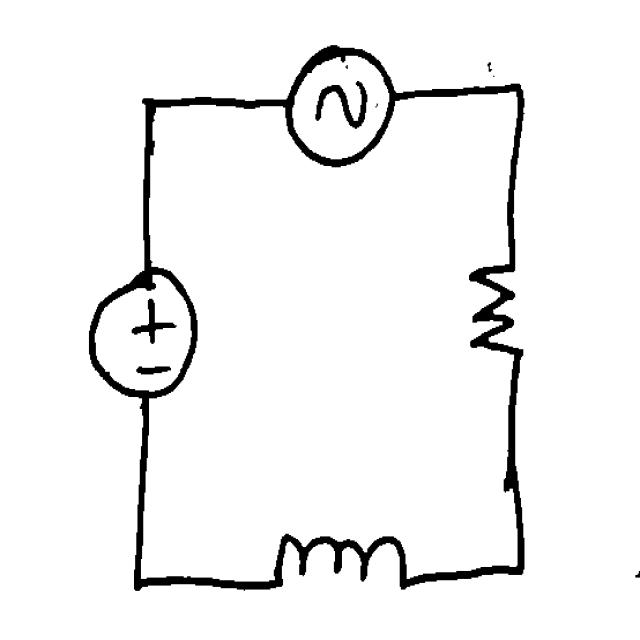ac: (278, 29, 399, 175)
dc: (81, 259, 211, 405)
inductor: (266, 514, 420, 606)
resistor: (457, 261, 534, 379)
